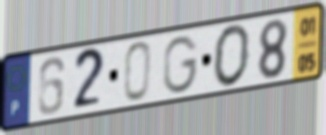0: (122, 39, 156, 105)
2: (70, 46, 108, 117)
6: (36, 55, 66, 117)
8: (256, 17, 290, 82)
G: (162, 34, 201, 97)
O: (212, 22, 252, 90)
